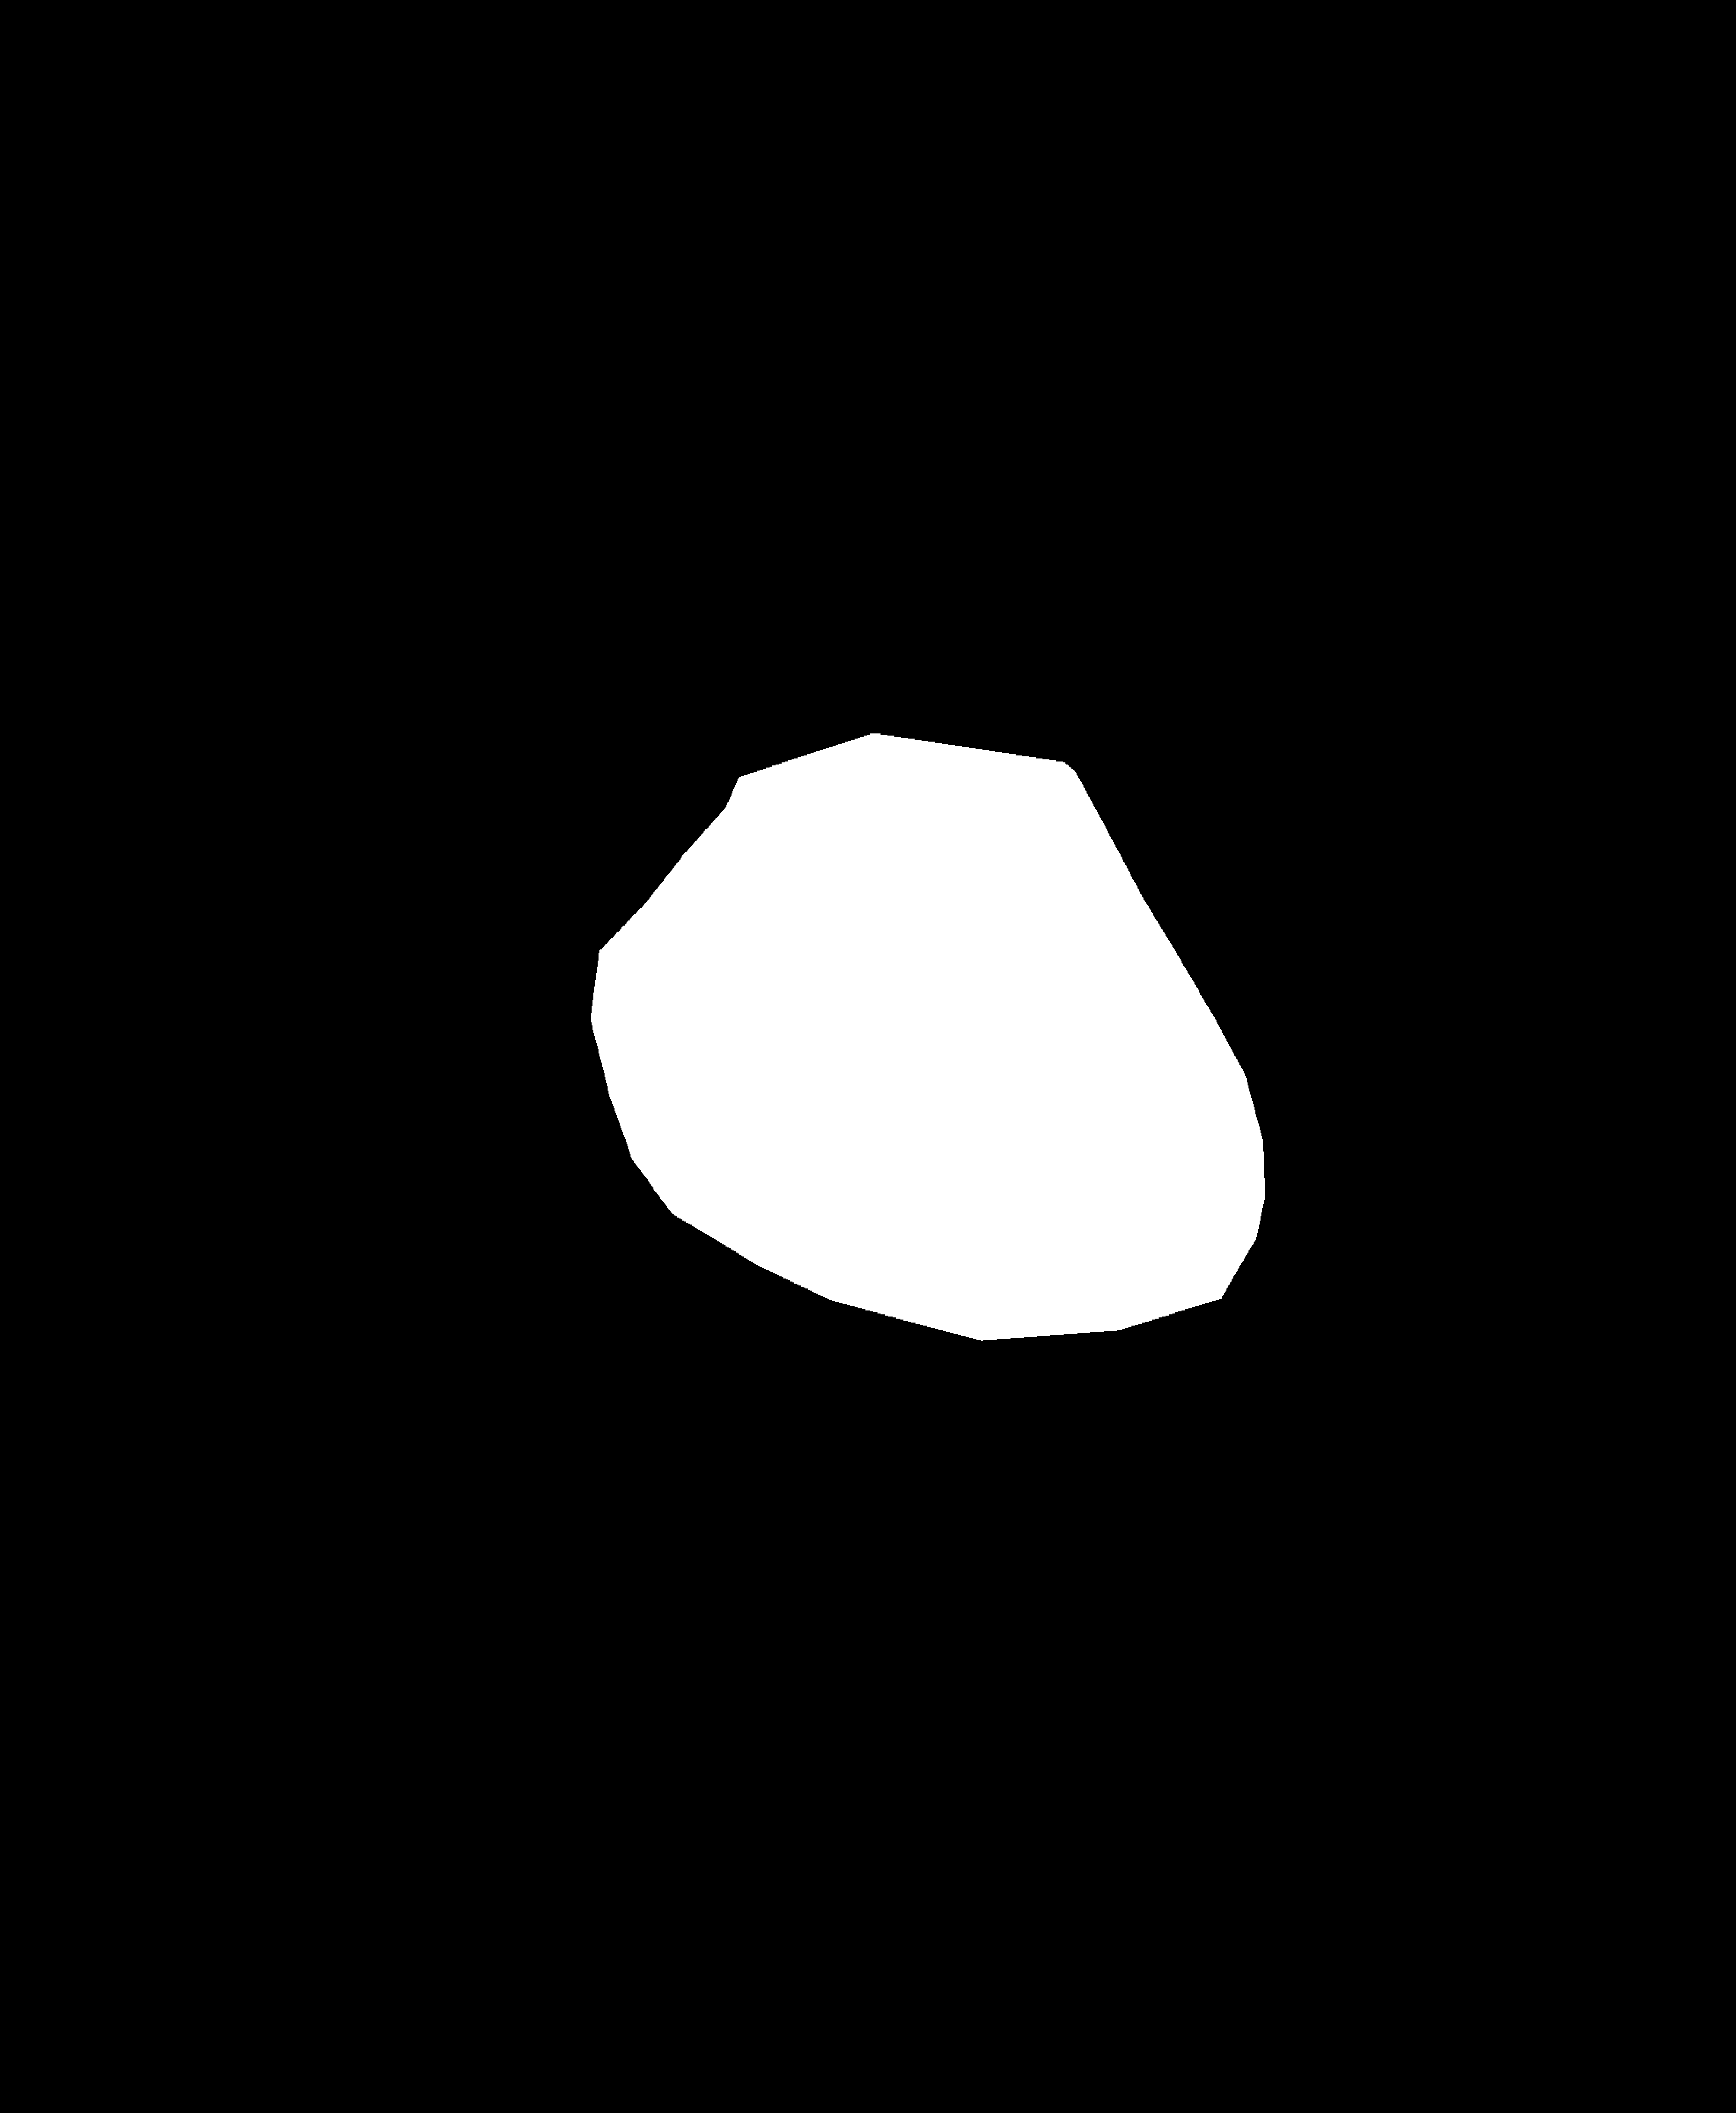heart: (588, 807, 1257, 1357)
left_lung: (100, 200, 788, 1404)
right_lung: (930, 205, 1601, 1357)
